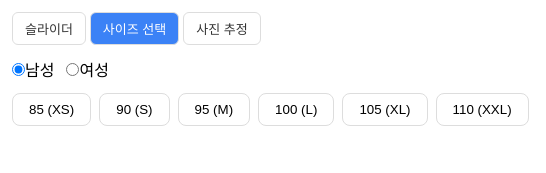
Test case: MeasurementPanel 컴포넌트 › 사진 추정 탭 클릭 시 안내 메시지가 표시된다
Click the button "사진 추정" at (222, 28), box left=183, top=12, right=261, bottom=45
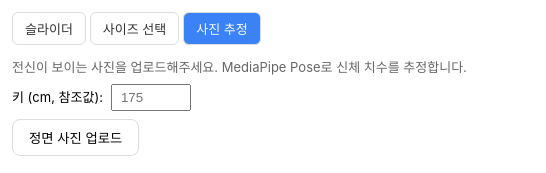
expect the text "전신이 보이는 사진을 업로드해주세요. MediaPipe Pose로 신체 치수를 추정합니다." is shown: met, box left=12, top=59, right=467, bottom=75
